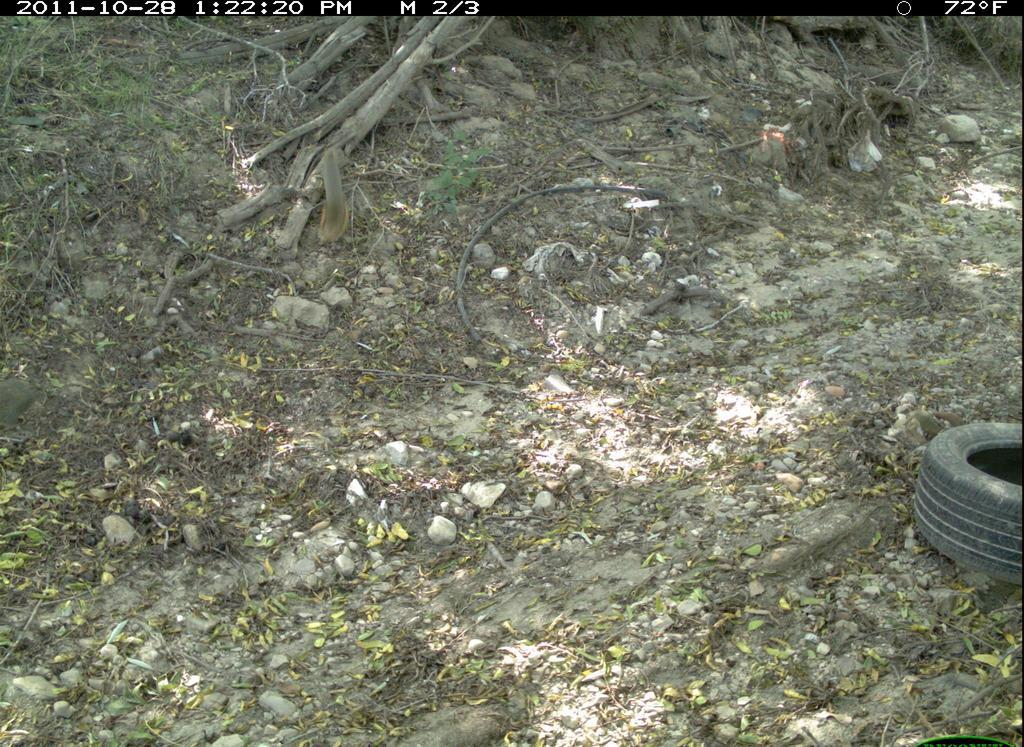squirrel: (309, 136, 372, 267)
